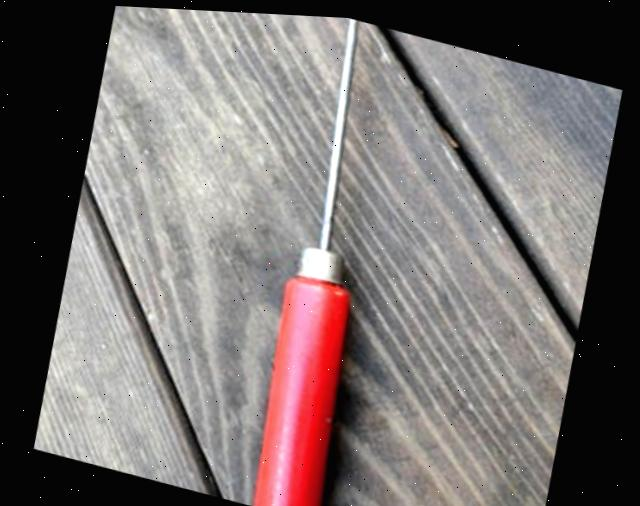ice pick: (232, 9, 421, 506)
